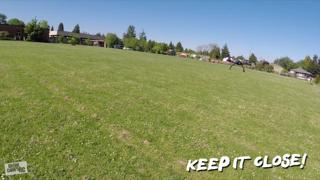UAV: (227, 57, 252, 73)
